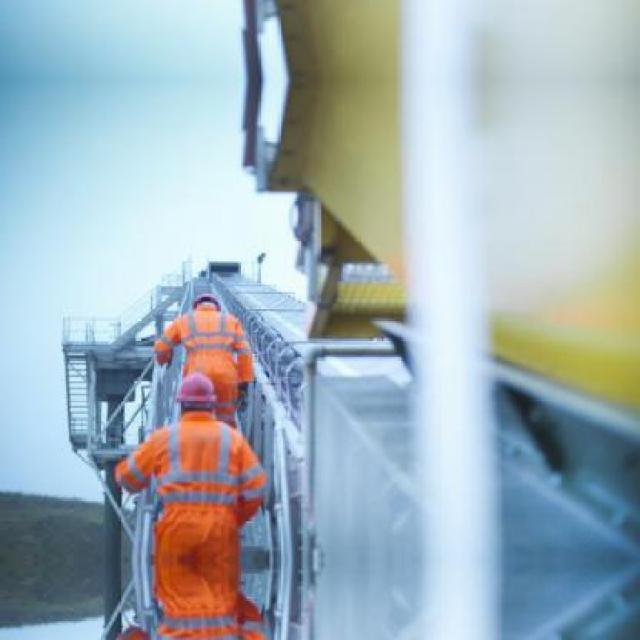Reflective-Jacket: (132, 417, 266, 568), (176, 311, 247, 377)
Safety-Helmet: (171, 369, 223, 414), (188, 291, 223, 311)
